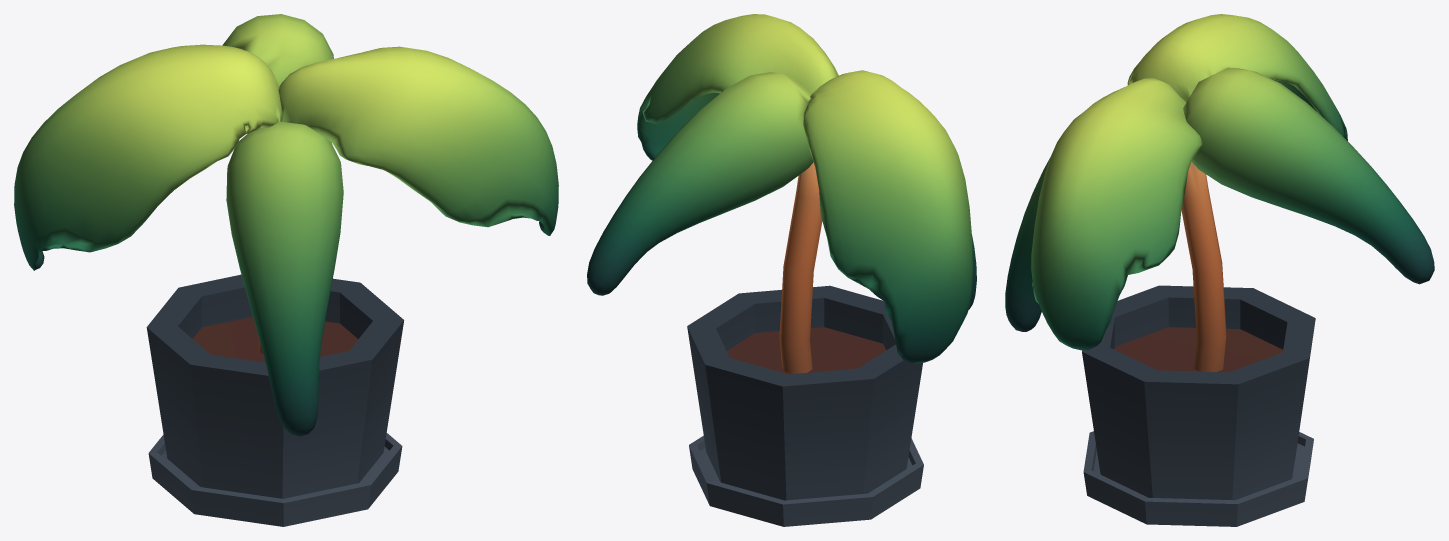
File: Seedling.fbx
3 views of the same model, side by side, from view 1: azimuth 30°, elevation 25°; view 2: azimuth 150°, elevation 25°; view 3: azimuth 270°, elevation 25° (orthographic). The views are drawn at different scales.
Parts seen in each view (by area): view 1: Seedling; view 2: Seedling; view 3: Seedling.
Part boxes in pixels (bbox=[...]): Seedling: bbox=[14, 14, 558, 526]; Seedling: bbox=[587, 14, 976, 526]; Seedling: bbox=[1005, 14, 1434, 526].
Bounding box in the file's own units: 0.1586 × 0.1523 × 0.1412.
